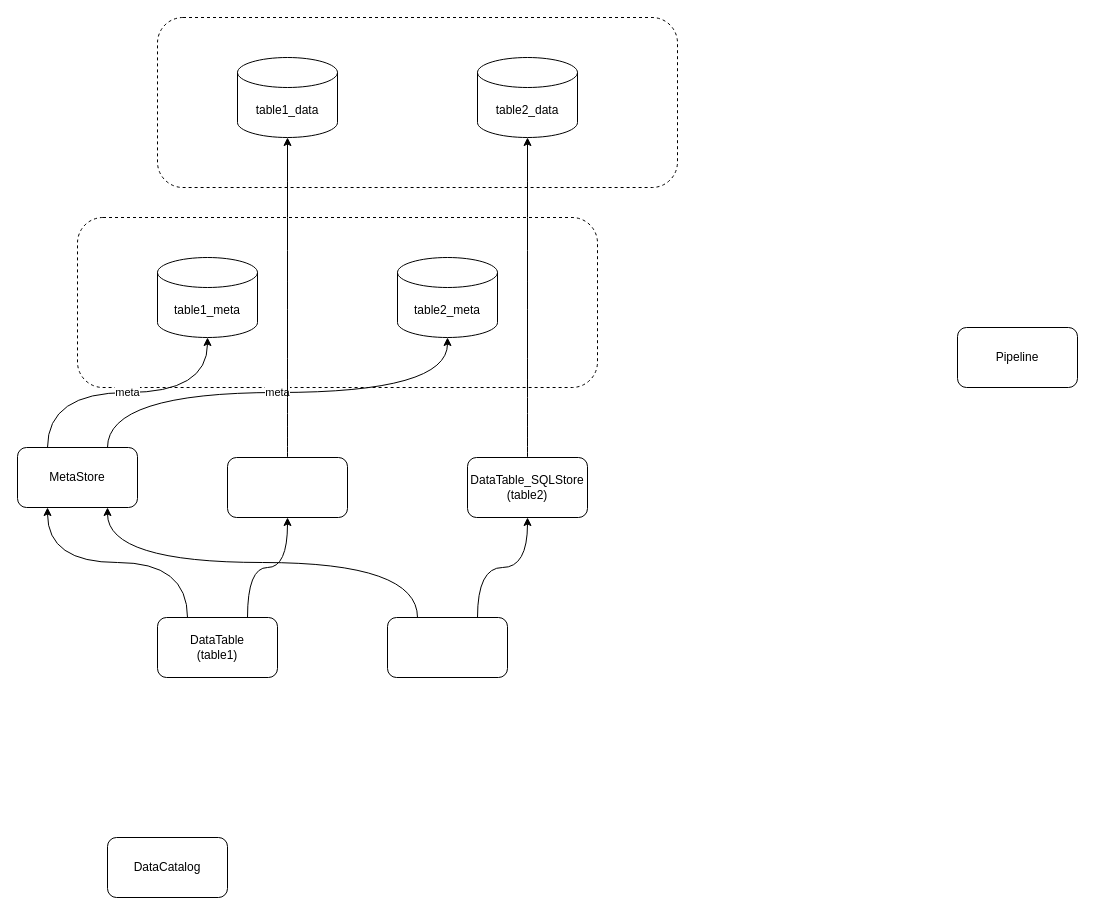
Image size: 1095x915. Some labels were removed from this diagram. Each missing label, with the box of its shape:
Data DB: (156, 16, 678, 188)
DataTable (table2): (386, 616, 508, 678)
DataTable_SQLStore (table1): (226, 456, 348, 518)
Meta DB: (76, 216, 598, 388)
